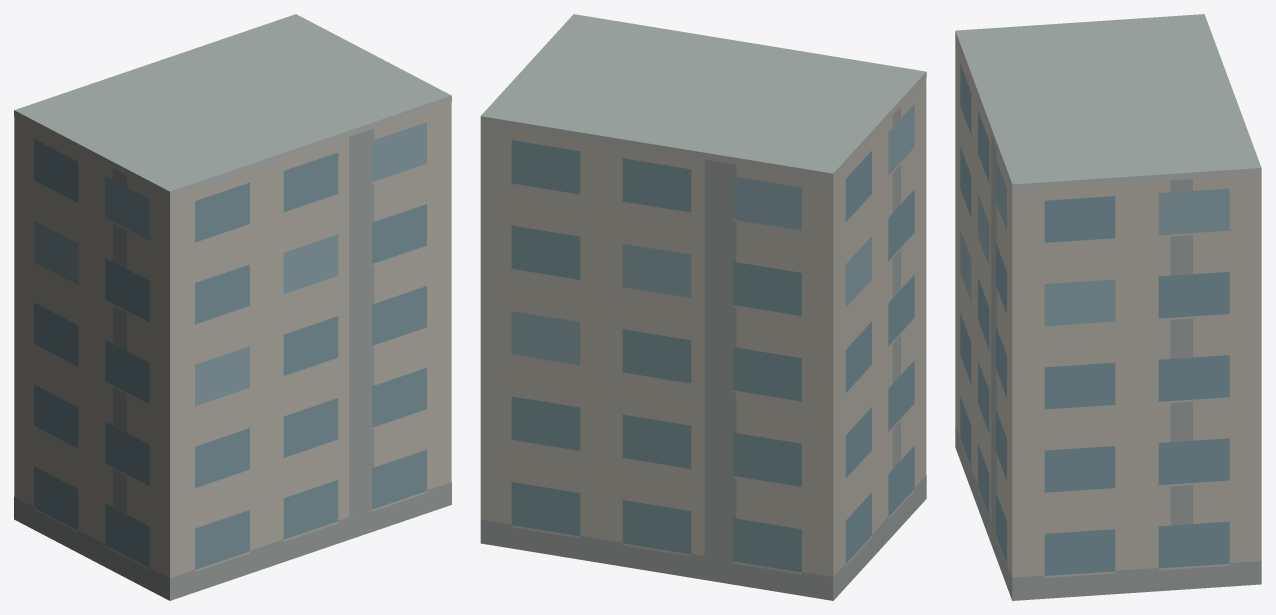
File: residential-d3e4206c-dfdf-4350-b564-c4d47d292250.glb
3 views of the same model, side by side, from view 1: azimuth 30°, elevation 25°; view 2: azimuth 150°, elevation 25°; view 3: azimuth 270°, elevation 25° (orthographic). The views are drawn at different scales.
Visible parts, largest first — view 1: residential-d3e4206c-dfdf-4350-b564-c4d47d292250.tmp; view 2: residential-d3e4206c-dfdf-4350-b564-c4d47d292250.tmp; view 3: residential-d3e4206c-dfdf-4350-b564-c4d47d292250.tmp.
Boxes of the visible parts, box(x1,y1,x2,y2) form: residential-d3e4206c-dfdf-4350-b564-c4d47d292250.tmp: box(14, 14, 451, 600); residential-d3e4206c-dfdf-4350-b564-c4d47d292250.tmp: box(480, 14, 926, 600); residential-d3e4206c-dfdf-4350-b564-c4d47d292250.tmp: box(955, 14, 1261, 600).
Bounding box in the file's own units: 13.39 × 15.25 × 10.18.
